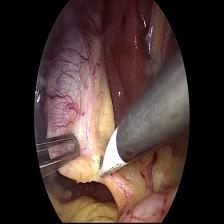Grasper: (33, 130, 85, 180)
Hook: (94, 129, 132, 183)
